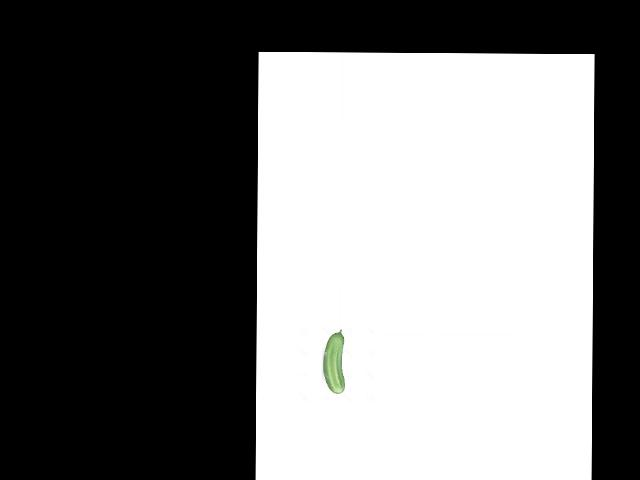cucumber: (322, 329, 345, 394)
